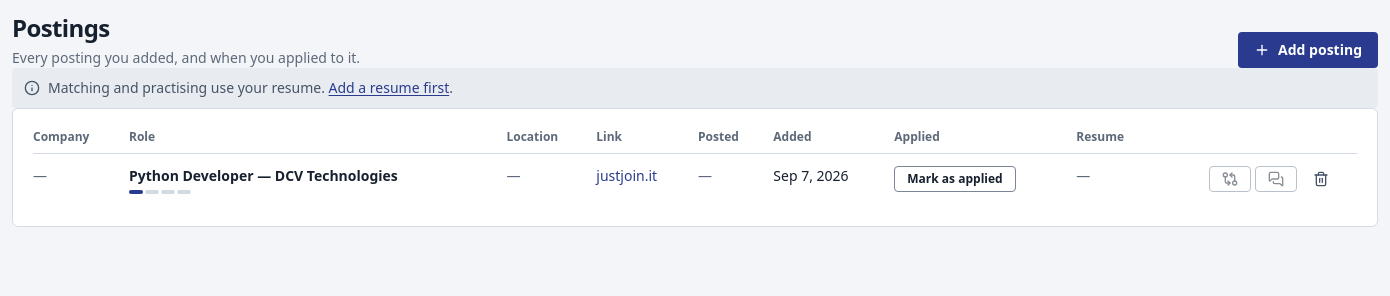
Test: without a resume there is nothing to apply with
This screenshot has width=1390, height=296.
Step 1. Click the button "Mark as applied" → (955, 179), box [894, 166, 1016, 192]
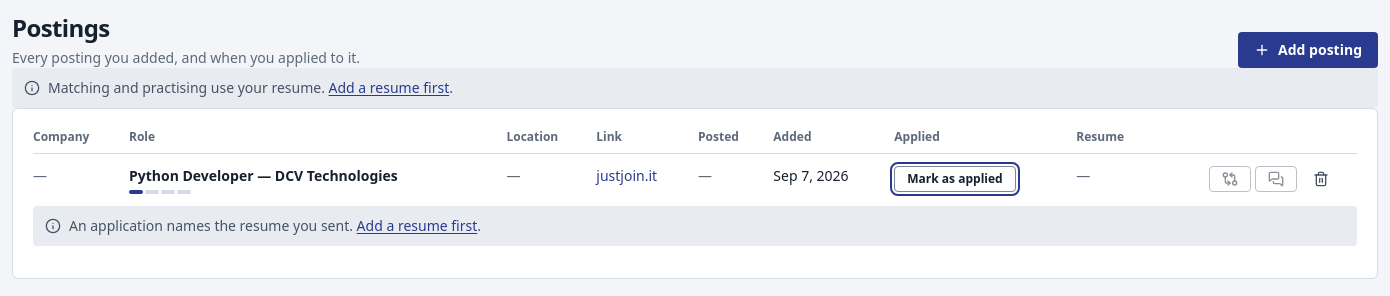
Now the text "An application names the resume you sent" is shown, box [69, 216, 353, 235]
